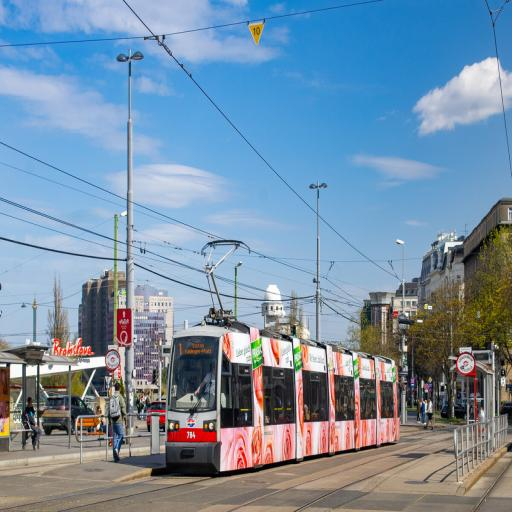ULF: (164, 323, 400, 475)
